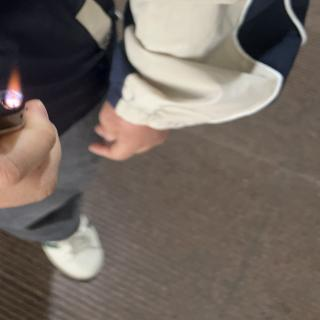fire: (6, 62, 24, 108)
